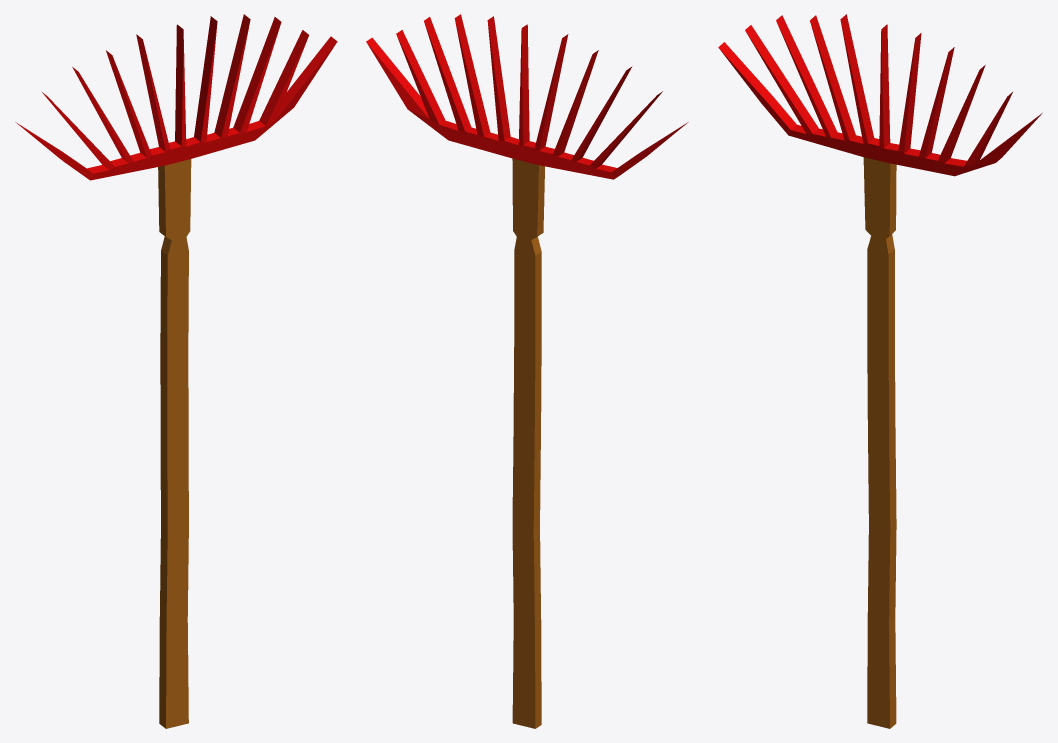
File: грабли.fbx
3 renders of one model, left to right at view 1: azimuth 30°, elevation 25°; view 2: azimuth 150°, elevation 25°; view 3: azimuth 330°, elevation 25°, orthographic.
Visible parts, largest first — view 1: Plane; view 2: Plane; view 3: Plane.
Boxes of the visible parts, bbox=[...] form: Plane: bbox=[15, 14, 337, 728]; Plane: bbox=[366, 14, 688, 728]; Plane: bbox=[718, 14, 1042, 728].
Size of the model in its own units: 210 by 441 by 9.66.
